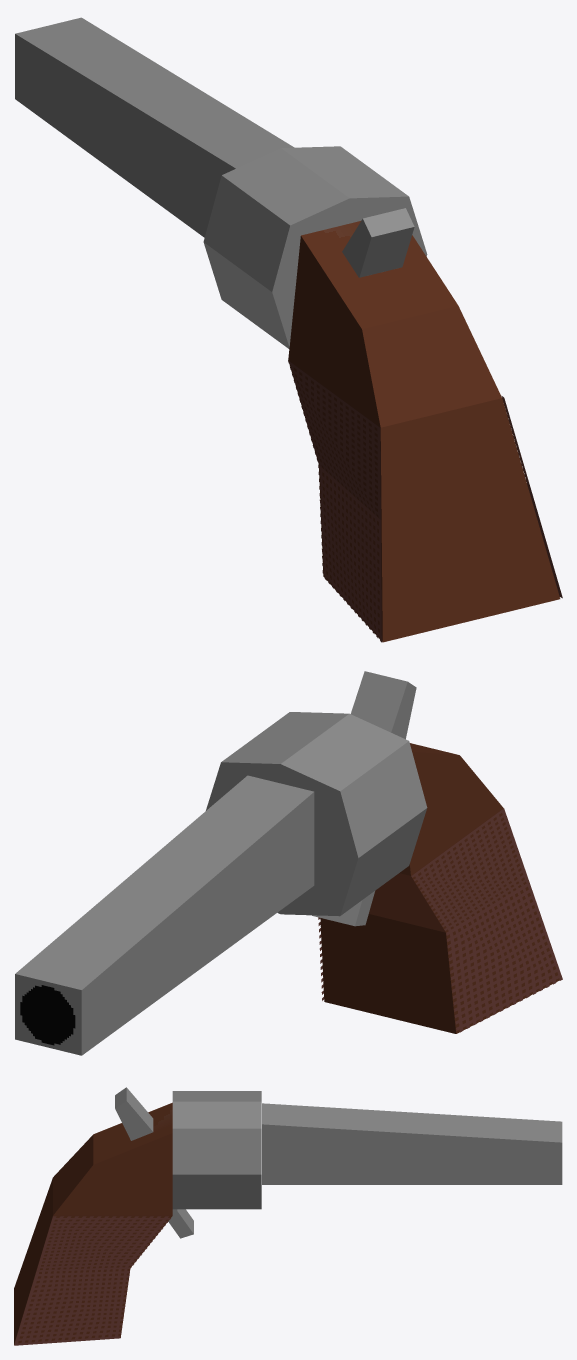
Rendered from Revolver2.glb.
The picture shows the model from 3 angles, top to bottom: view 1: azimuth 30°, elevation 25°; view 2: azimuth 150°, elevation 25°; view 3: azimuth 270°, elevation 25°; orthographic projection. The views are drawn at different scales.
Parts seen in each view (by area): view 1: Cube, Cube.002, Cube.004, handledetail.003, handledetail, Cube.003; view 2: Cube.002, Cube, Cube.004, handledetail.003, handledetail, Cube.003, barrelend, Cube.001; view 3: Cube.002, Cube, Cube.004, handledetail.002, handledetail.001, Cube.003, Cube.001.
Boxes of the visible parts, bbox=[...] form: Cube: bbox=[288, 221, 560, 642]; Cube.002: bbox=[15, 17, 294, 237]; Cube.004: bbox=[203, 146, 427, 348]; handledetail.003: bbox=[318, 465, 381, 642]; handledetail: bbox=[288, 360, 380, 519]; Cube.003: bbox=[342, 208, 414, 277]; Cube.002: bbox=[15, 775, 314, 1055]; Cube: bbox=[320, 743, 559, 1033]; Cube.004: bbox=[206, 712, 427, 916]; handledetail.003: bbox=[446, 882, 562, 1032]; handledetail: bbox=[411, 808, 529, 930]; Cube.003: bbox=[351, 671, 416, 739]; barrelend: bbox=[20, 985, 75, 1045]; Cube.001: bbox=[312, 891, 374, 926]; Cube.002: bbox=[262, 1103, 562, 1184]; Cube: bbox=[14, 1102, 172, 1344]; Cube.004: bbox=[172, 1091, 261, 1209]; handledetail.002: bbox=[14, 1269, 129, 1345]; handledetail.001: bbox=[36, 1216, 170, 1271]; Cube.003: bbox=[115, 1087, 153, 1140]; Cube.001: bbox=[168, 1209, 193, 1238].
Bounding box in the file's own units: 1.02 × 1.85 × 4.13.
Materials: 3 (3 with a texture image).
